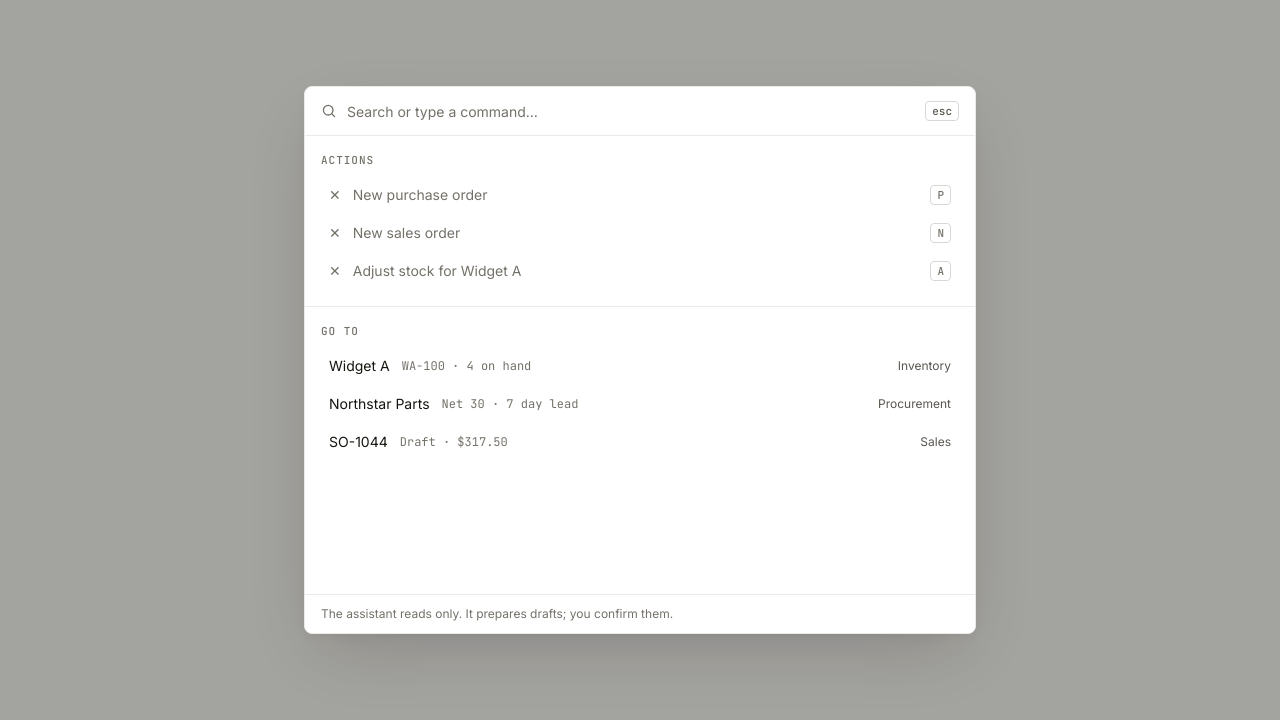
CommandBar › answers with the same panel the Ask page uses
In the field named "Search or ask": point(631, 111) [347,87,915,135], type "reorder widget from northstar"
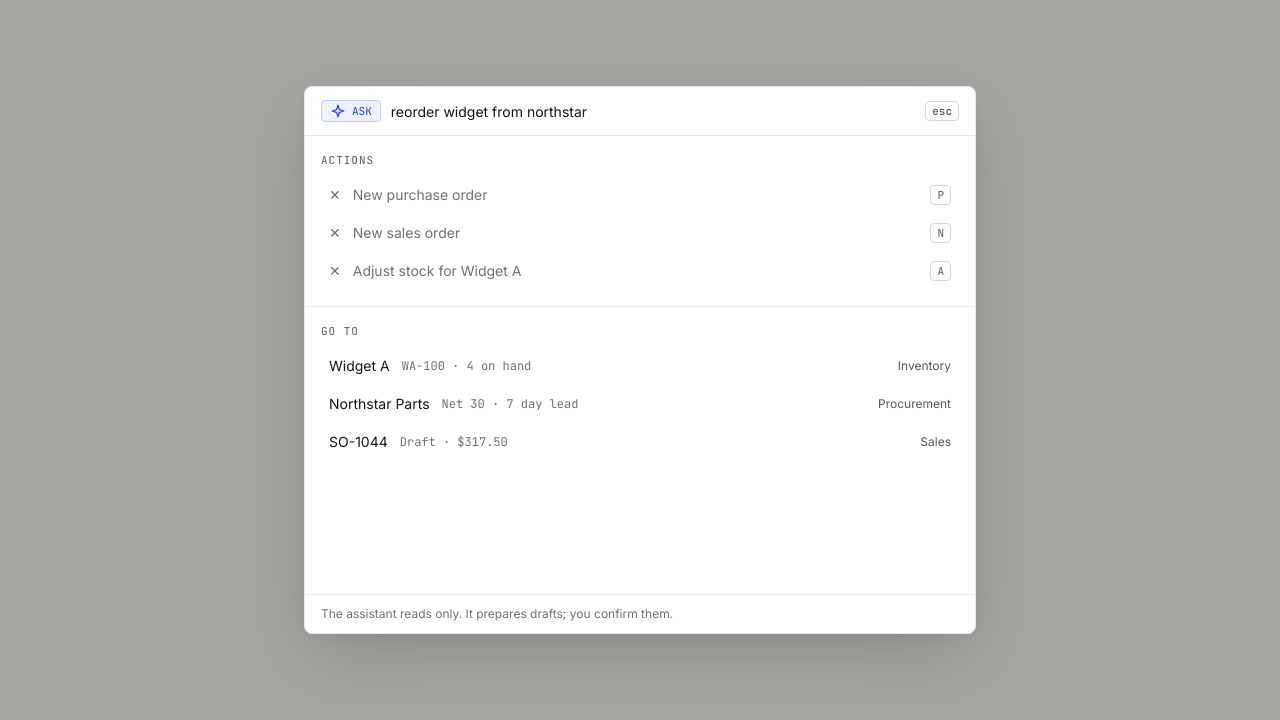
Press Enter
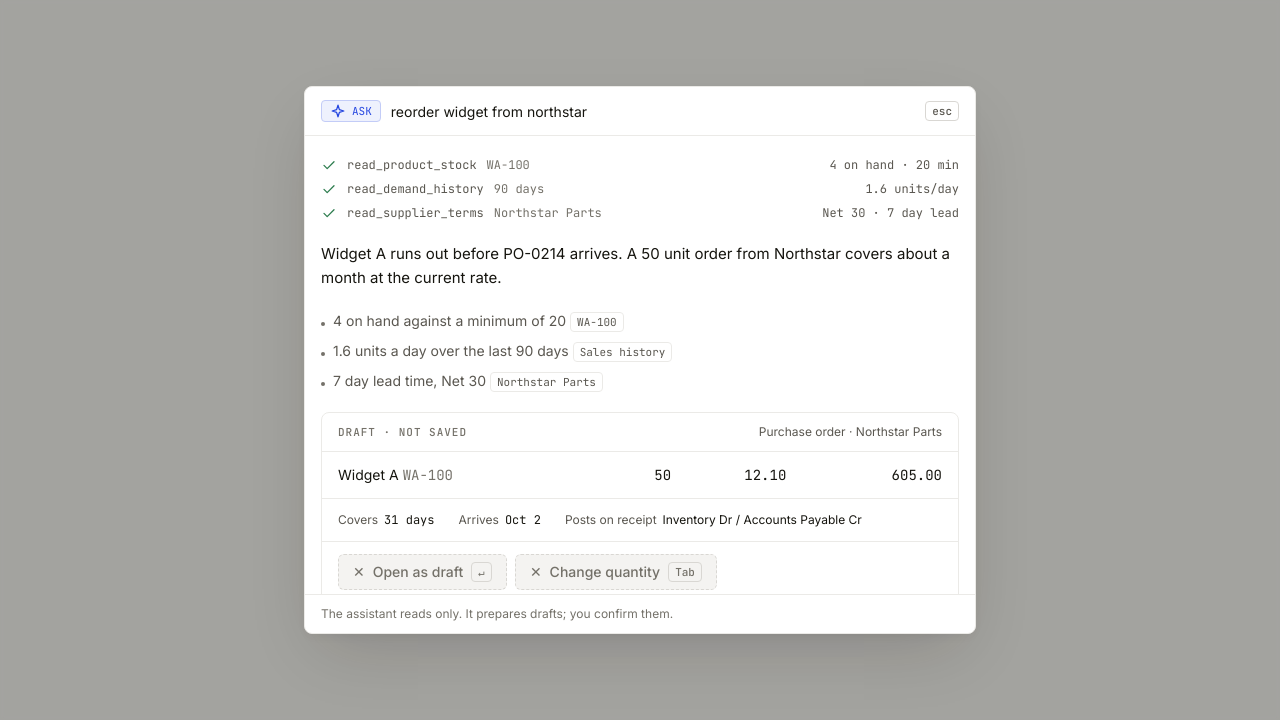
Expected: the text "read_product_stock" is shown, [347,156,477,174]
Expected: the text "Draft · not saved" is shown, [338,424,467,440]
